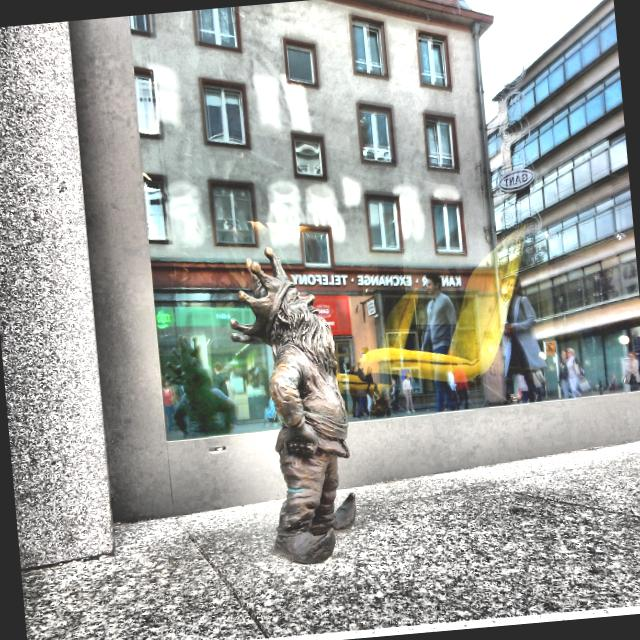Koronus: (230, 247, 355, 566)
